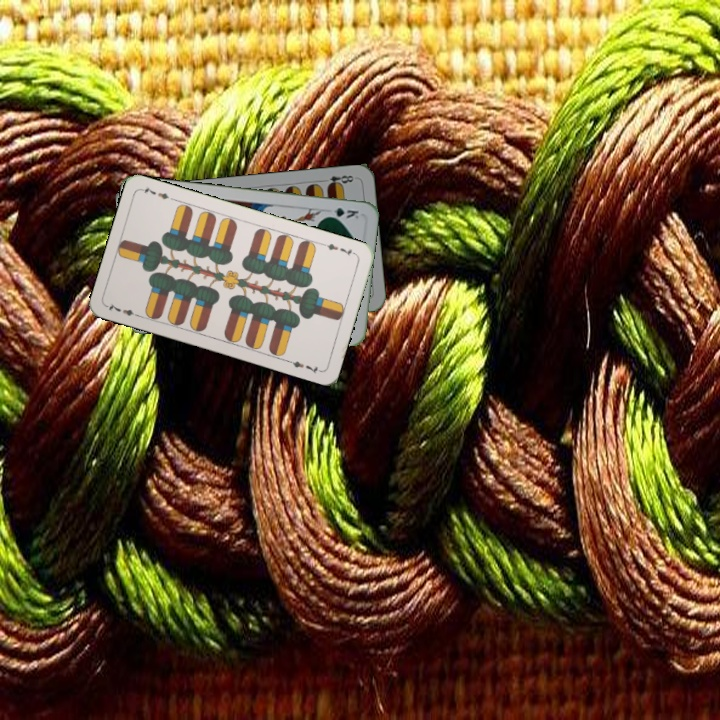E7: (103, 299, 143, 320), (319, 239, 359, 259)
E8: (318, 171, 356, 190)
GK: (322, 204, 361, 221)
